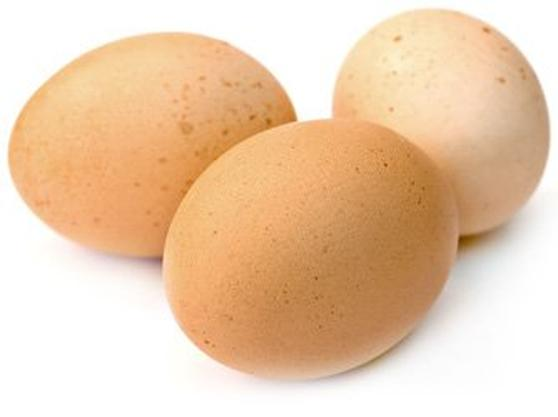egg: (143, 117, 466, 391)
